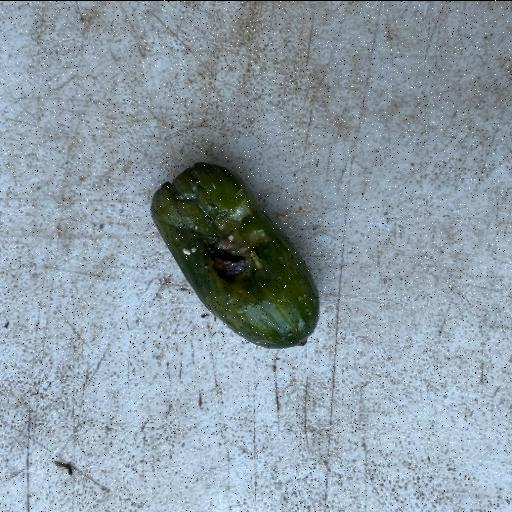Waste: (148, 160, 320, 350)
